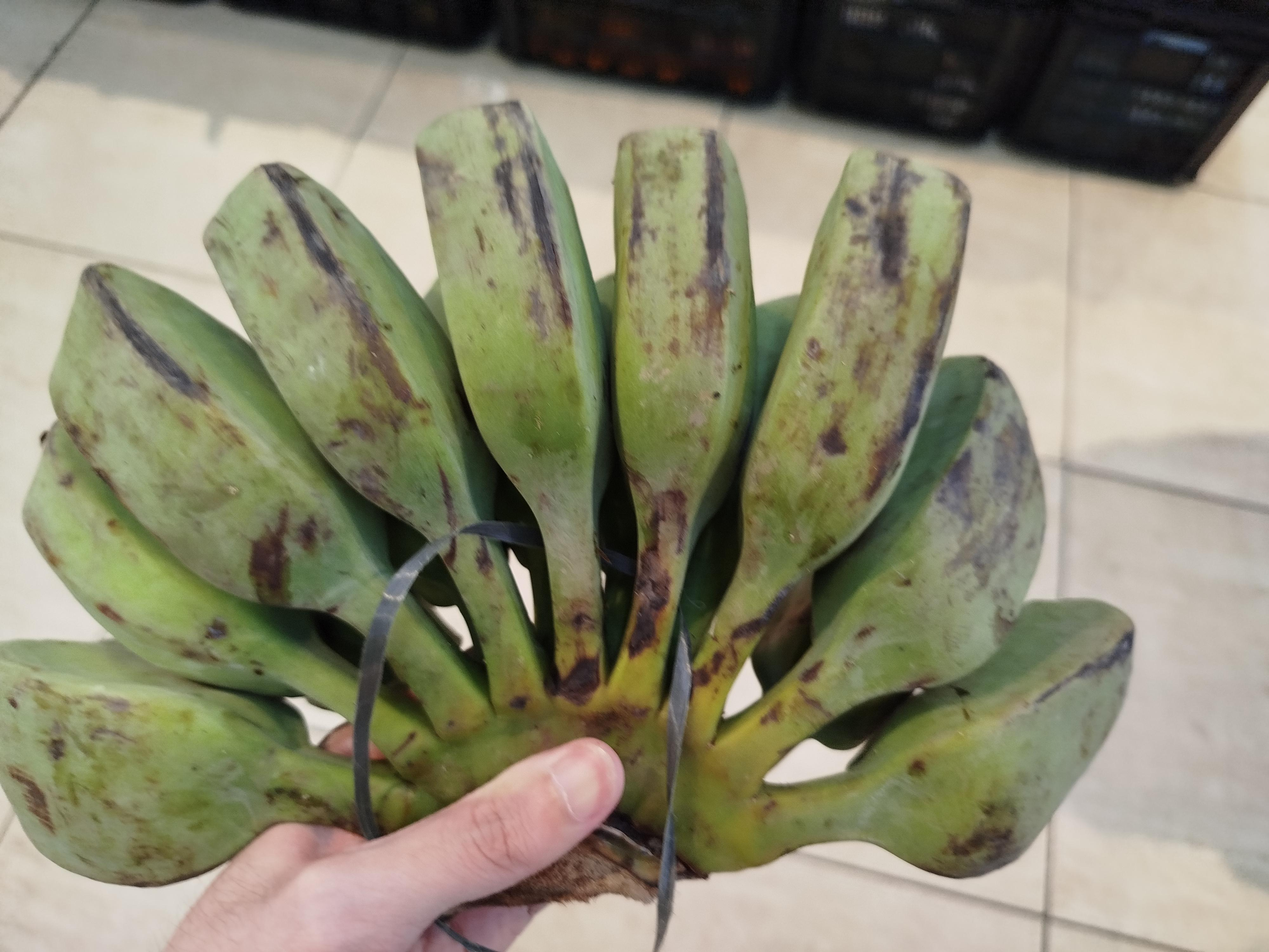underripe: (0, 102, 1133, 886)
